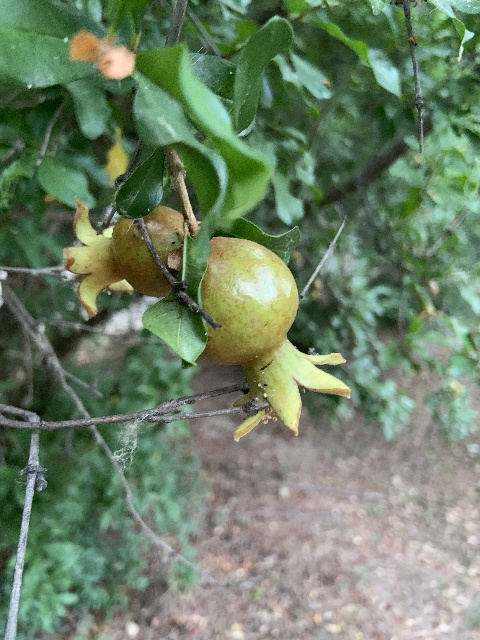early-fruit: (63, 196, 186, 319)
mid-growth: (199, 237, 352, 442)
